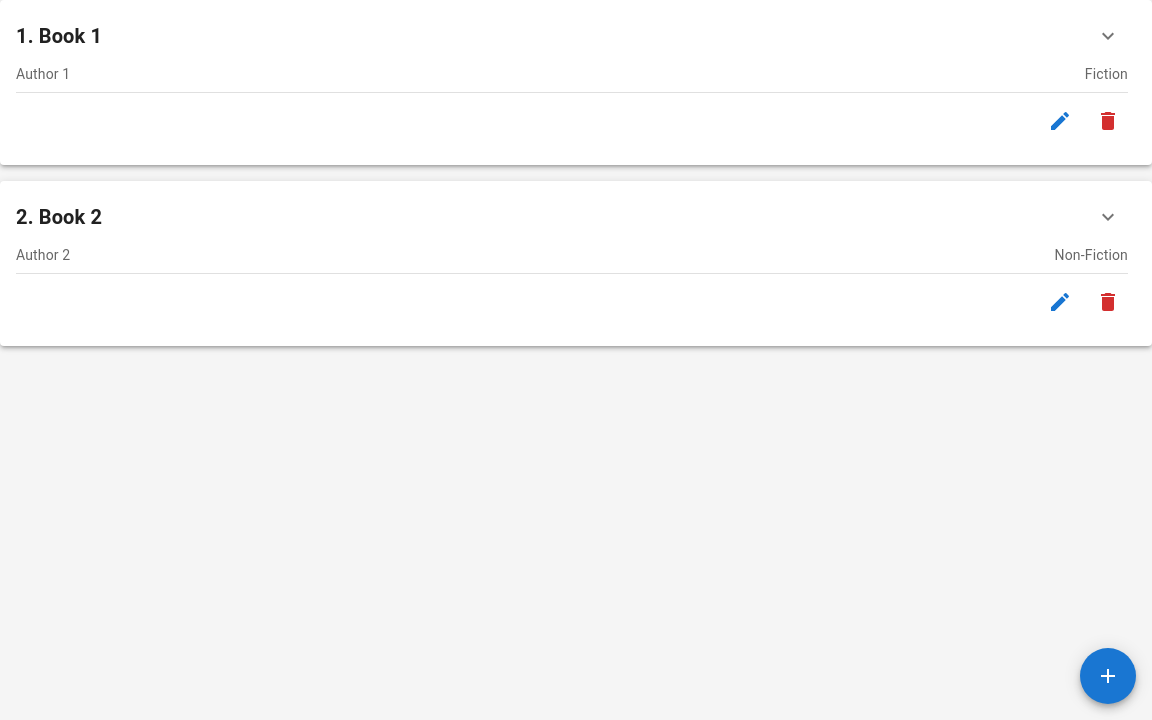
Test case: BookList Component › opens modal with book data when Edit button is clicked
Click the 1st button named "edit book" at (1060, 121), box [1040,101,1080,141]
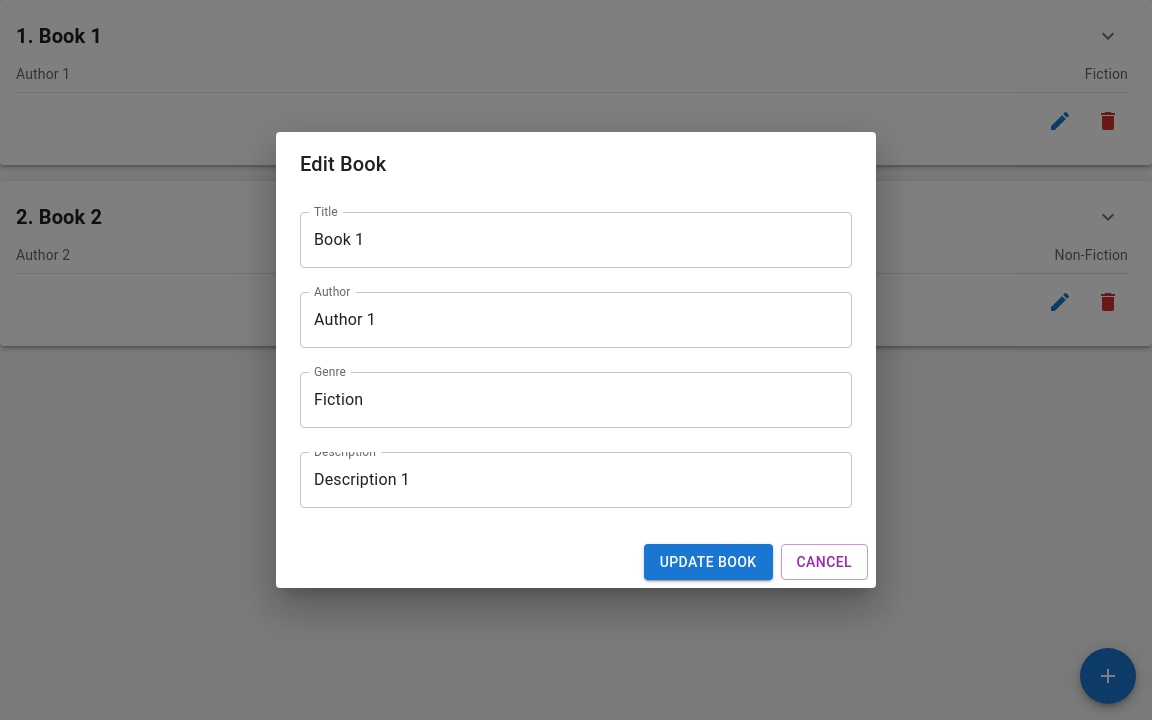
Check: the heading "Edit Book" is shown, box [300,152,386,176]
Check: the field showing "Book 1" is shown, box [300,212,852,268]
